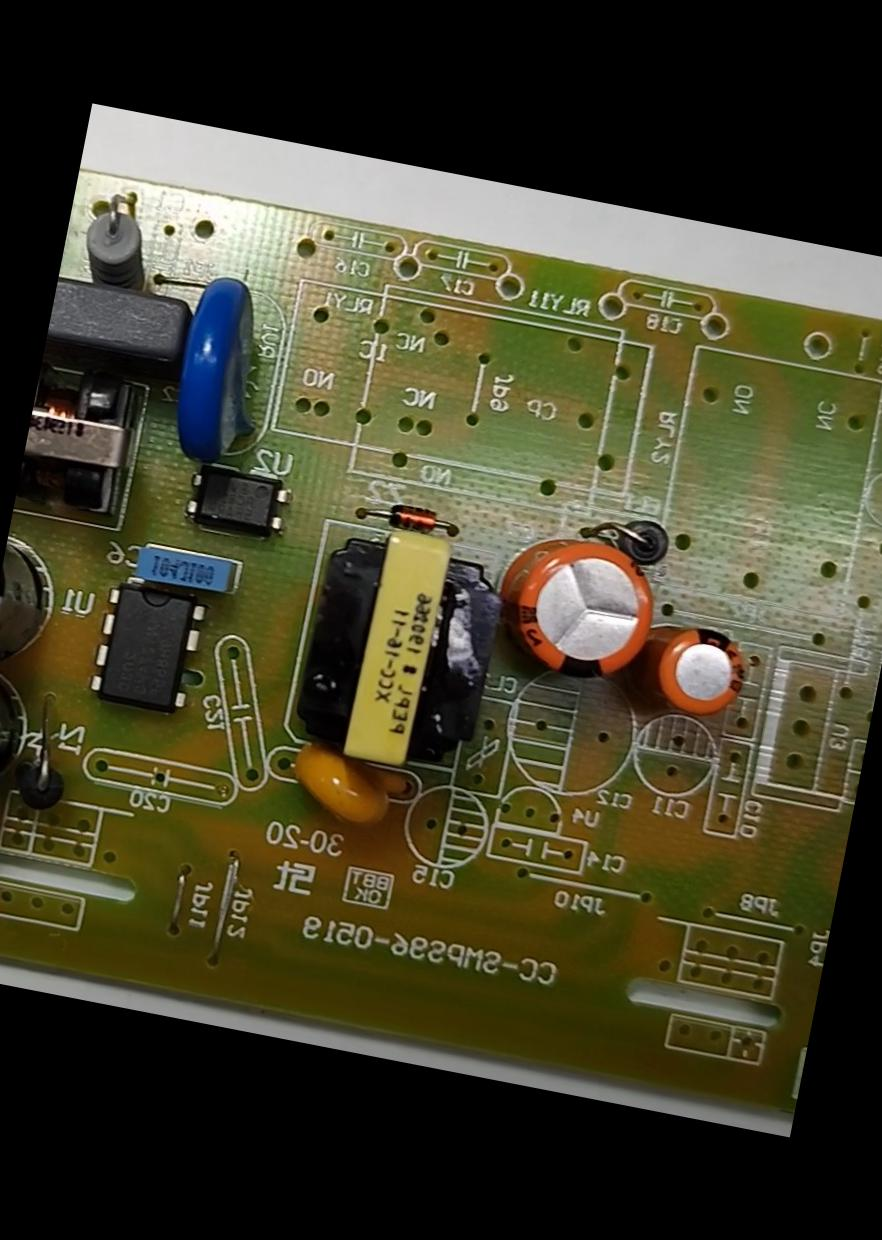Cap1: (482, 509, 676, 711)
Cap2: (622, 606, 762, 741)
Cap3: (0, 520, 74, 695)
Cap4: (0, 653, 65, 827)
MOSFET: (75, 568, 218, 735)
Mov: (150, 259, 308, 492)
Resistor: (60, 180, 174, 300)
Transformer: (284, 508, 517, 788), (13, 350, 154, 534)
